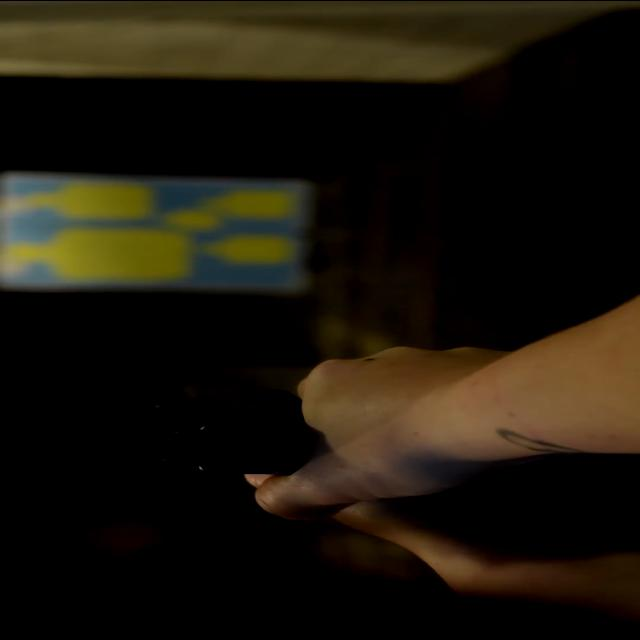handgun: (71, 348, 383, 501)
